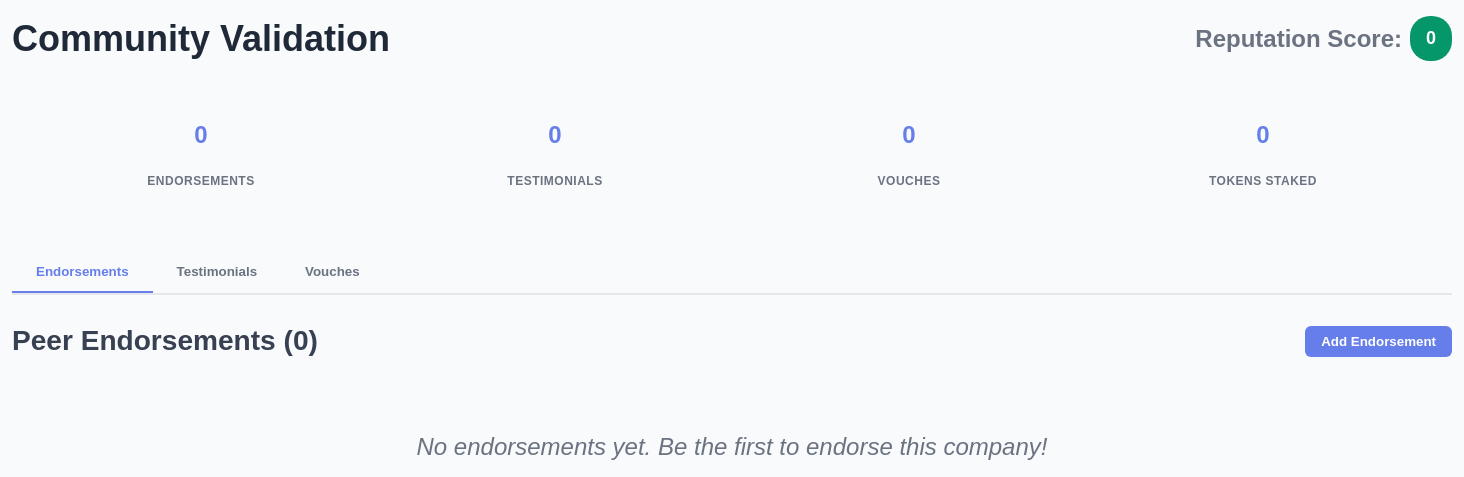
Scenario: CommunityValidation › Empty States › should show empty state for vouches
Click the button "Vouches".
click(332, 273)  # box [281,252,384,293]
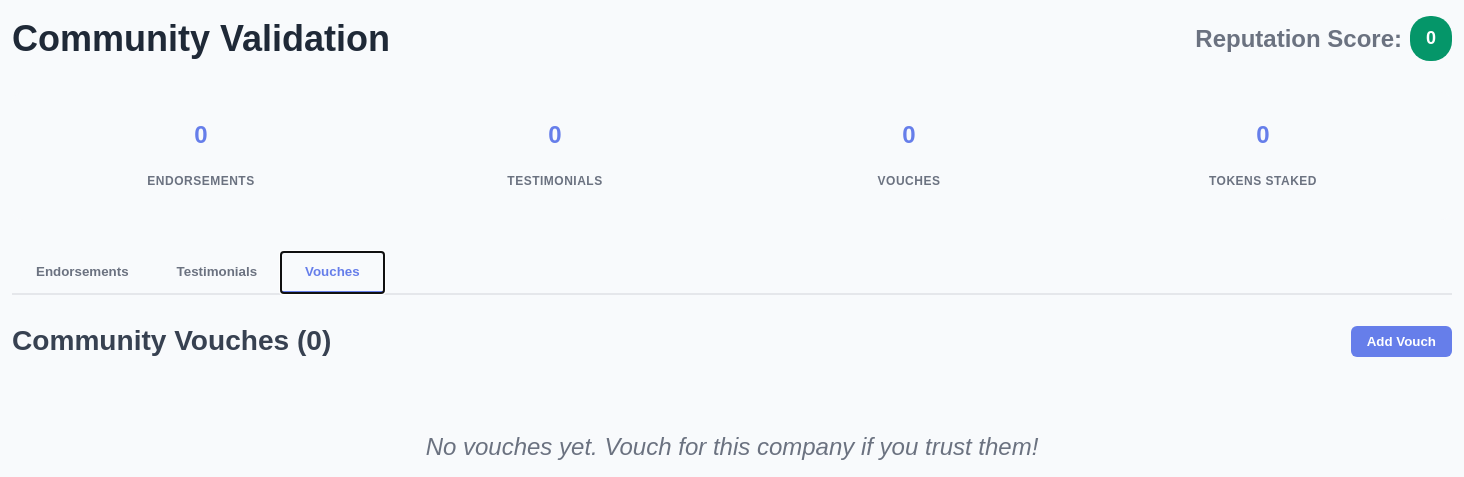
Expected: the text "No vouches yet. Vouch for this company if you trust them!" is shown, [426,433,1038,460]
